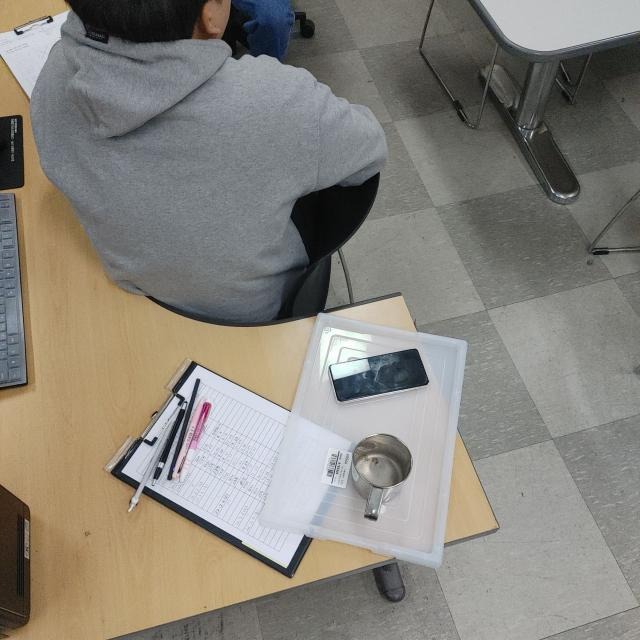cup: (348, 430, 415, 522)
phone: (326, 347, 431, 403)
